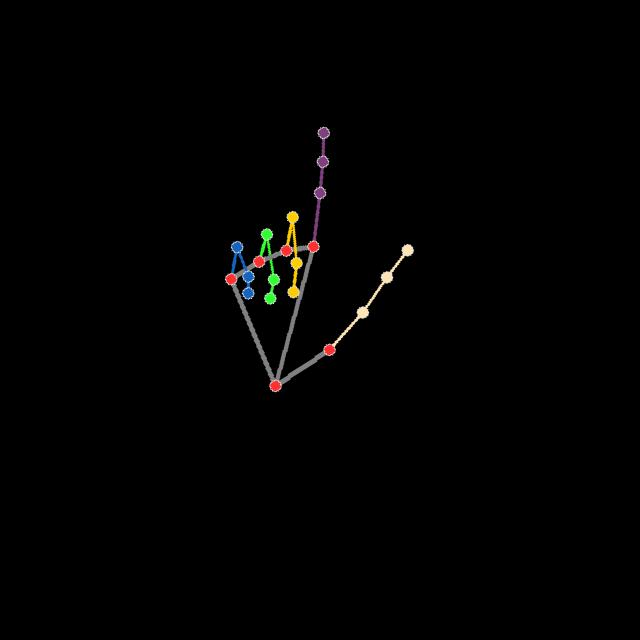gun: (227, 126, 415, 392)
